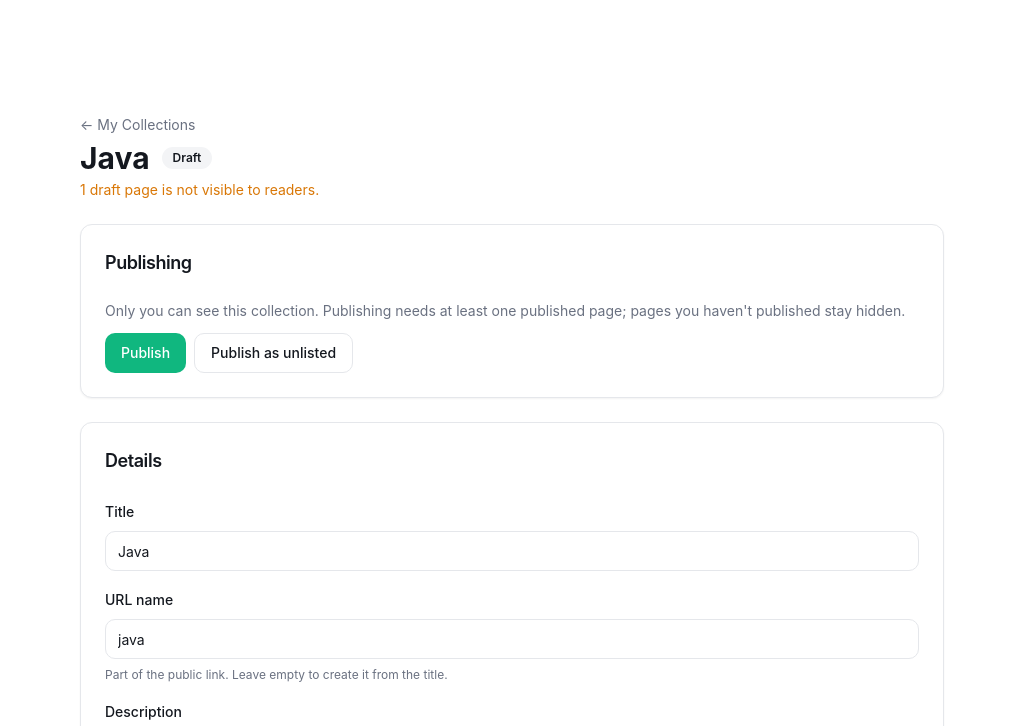
it: details › saves edits (full title, unchanged fields kept) and shows the new title
Expected: the heading "Java" is shown, [80, 140, 150, 176]
Replace the text in the field labelled "Title" with "Advanced Java" at (512, 551), box [105, 531, 919, 571]
(page scrolled)
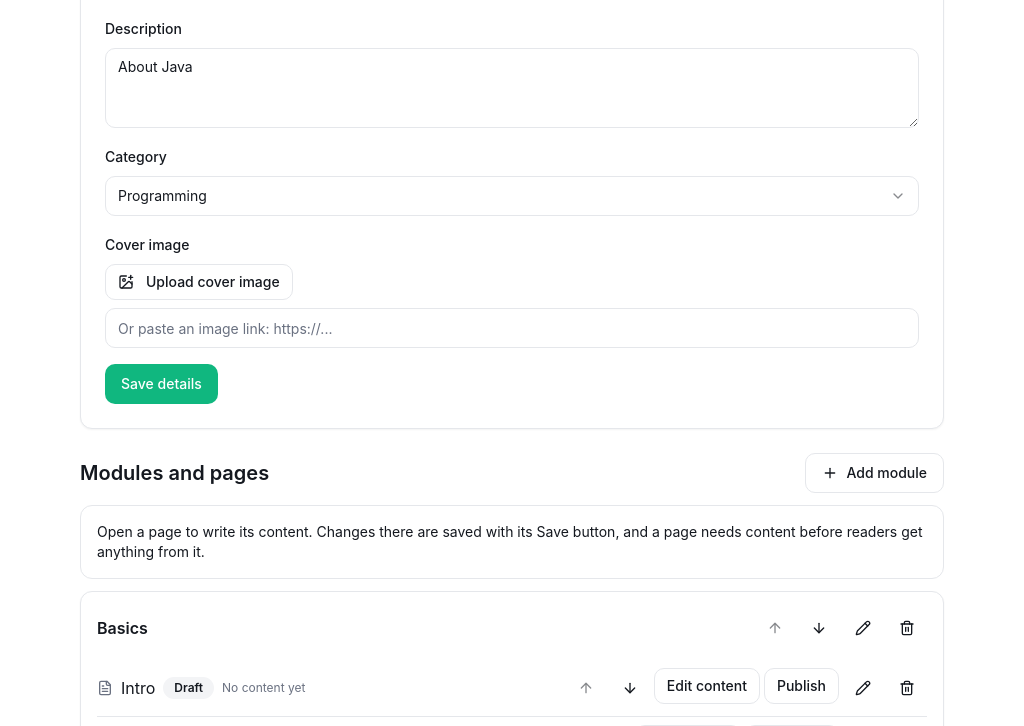
Click the button "Save details" at (161, 384), box [105, 364, 218, 404]
(page scrolled)
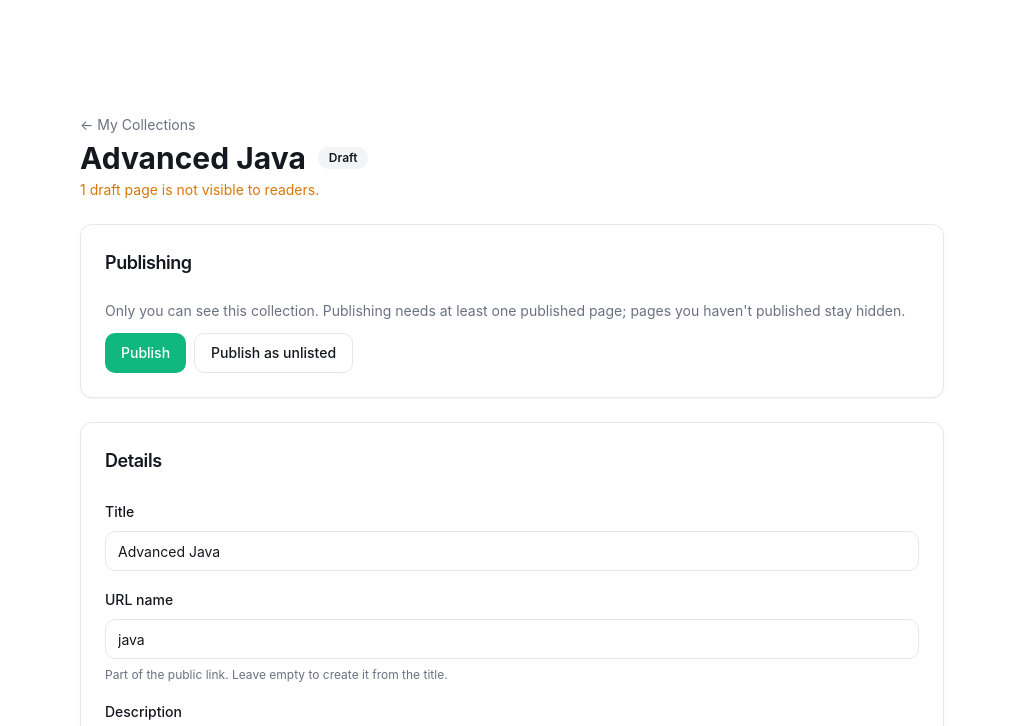
Now the heading "Advanced Java" is shown, box [80, 140, 306, 176]
